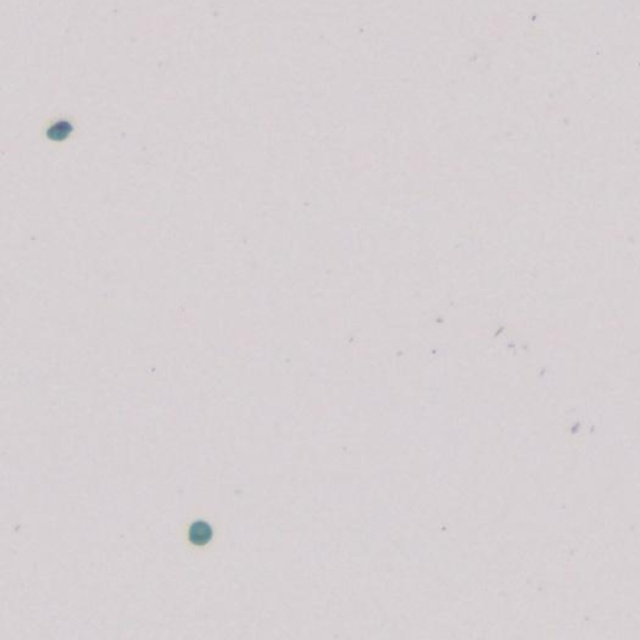non_viable: (189, 521, 212, 545), (46, 119, 72, 140)
